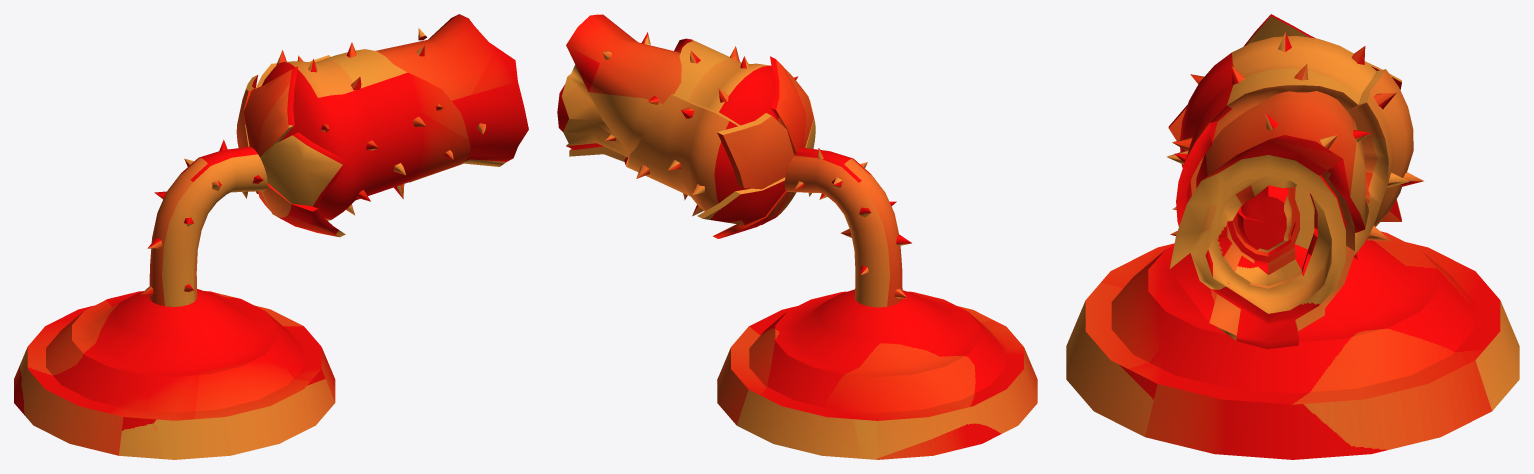
The model's file is animacion_canon4.fbx.
The picture shows the model from 3 angles, left to right: view 1: azimuth 30°, elevation 25°; view 2: azimuth 150°, elevation 25°; view 3: azimuth 270°, elevation 25°; orthographic projection. The views are drawn at different scales.
Parts seen in each view (by area): view 1: Cylinder003; view 2: Cylinder003; view 3: Cylinder003.
Part boxes in pixels (x1=…): Cylinder003: x1=14, y1=14, x2=528, y2=459; Cylinder003: x1=557, y1=14, x2=1037, y2=459; Cylinder003: x1=1066, y1=14, x2=1519, y2=459.
Size of the model in its own units: 67.26 by 43.19 by 41.41.
